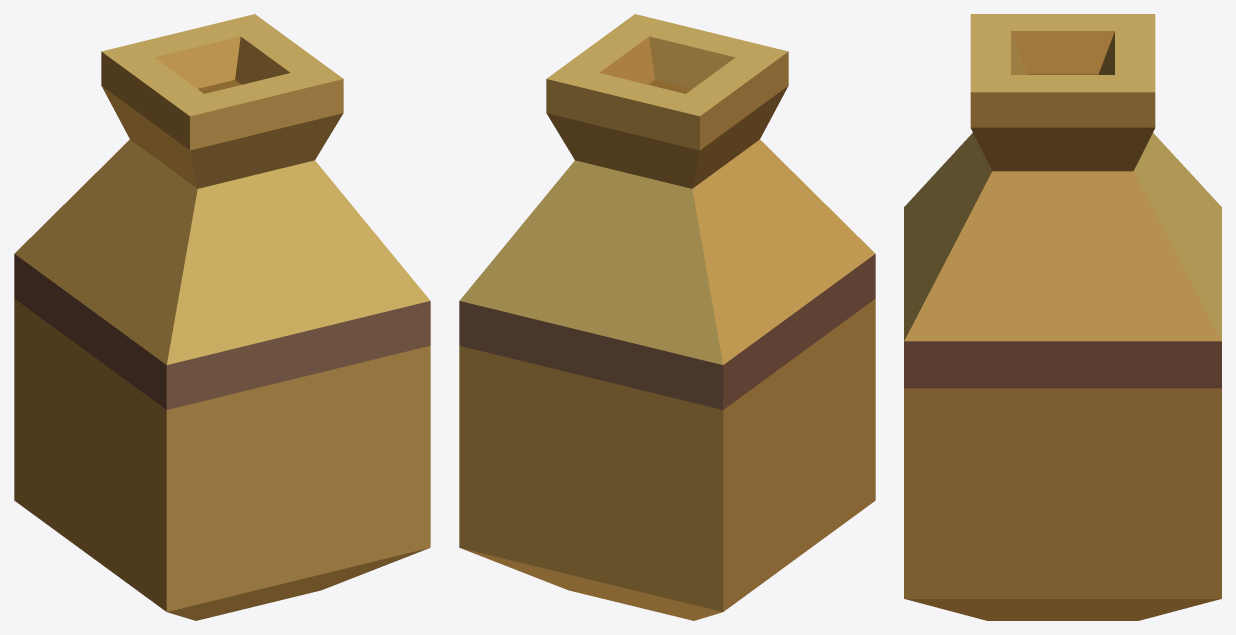
The model's file is ST_Prop_Vase_02.fbx.
3 renders of one model, left to right at view 1: azimuth 30°, elevation 25°; view 2: azimuth 150°, elevation 25°; view 3: azimuth 270°, elevation 25°, orthographic. The views are drawn at different scales.
Parts seen in each view (by area): view 1: ST_Prop_Vase_02; view 2: ST_Prop_Vase_02; view 3: ST_Prop_Vase_02.
Part boxes in pixels (box(x1,y1,x2,y2)): ST_Prop_Vase_02: box(14, 14, 430, 620); ST_Prop_Vase_02: box(459, 14, 875, 620); ST_Prop_Vase_02: box(904, 14, 1221, 620).
Bounding box in the file's own units: 0.4116 × 0.7663 × 0.4116.
